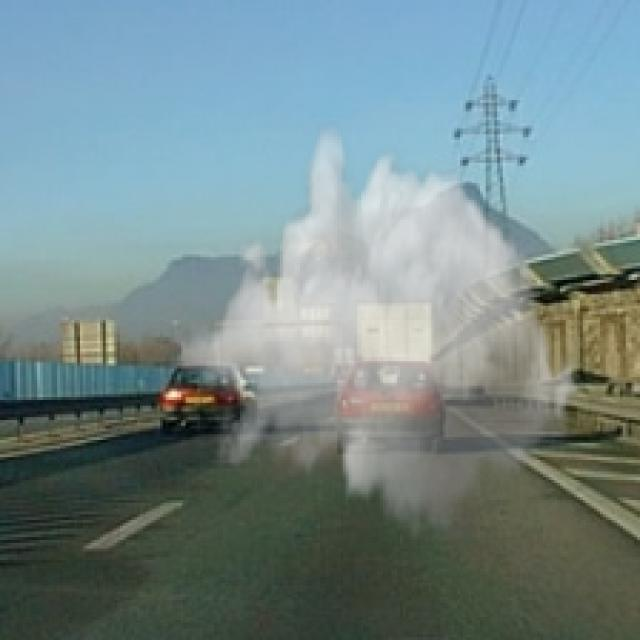smoke: (174, 120, 580, 546)
